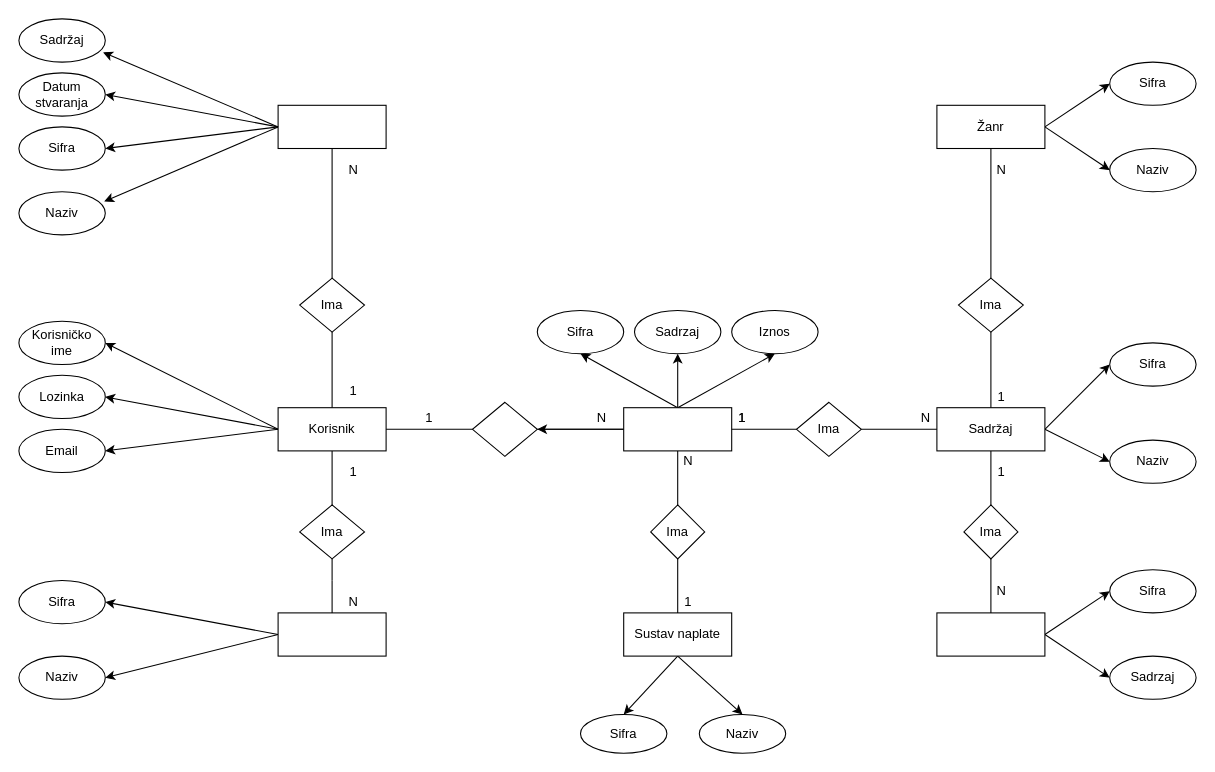
This 1215x772 diagram has some shape labels left out. Here are the shapes that lost their labels. From the top down, the centre of each, then its label:
pixel 331 126: Biblioteka sadržaja
pixel 504 428: Radi
pixel 677 429: Kupovina premium sadržaja
pixel 331 634: Televizijski kanal
pixel 990 634: Recenzija
